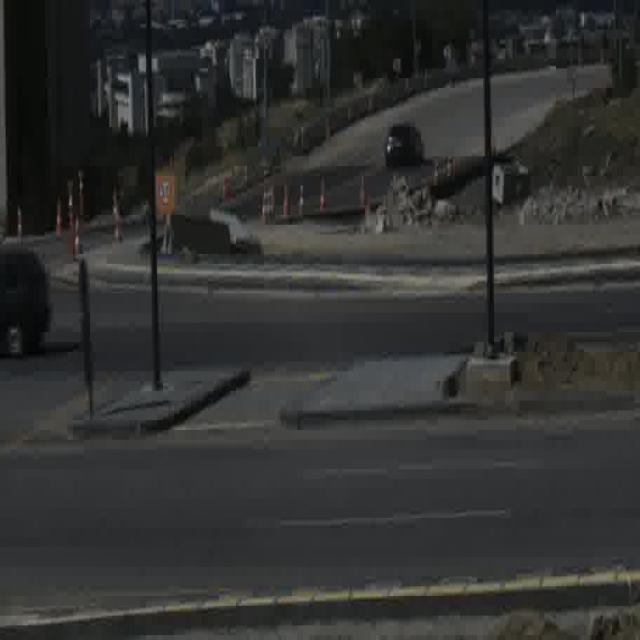Car: (1, 247, 47, 354), (385, 122, 425, 172)
